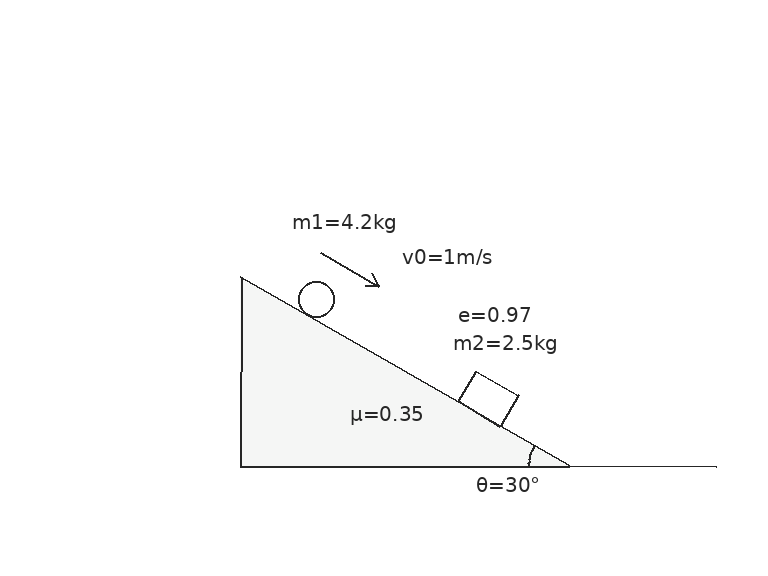ball: (296, 279, 336, 319)
block: (456, 369, 520, 428)
ramp: (239, 274, 571, 468)
